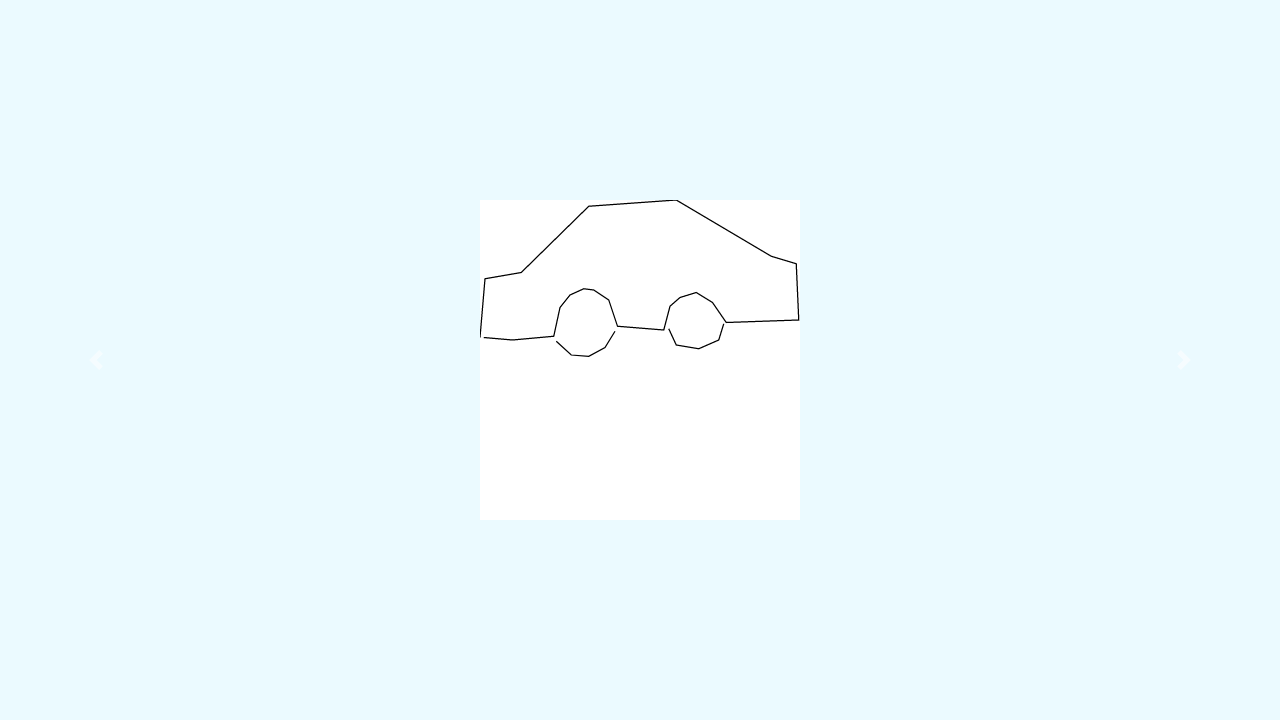car: (474, 188, 807, 378)
